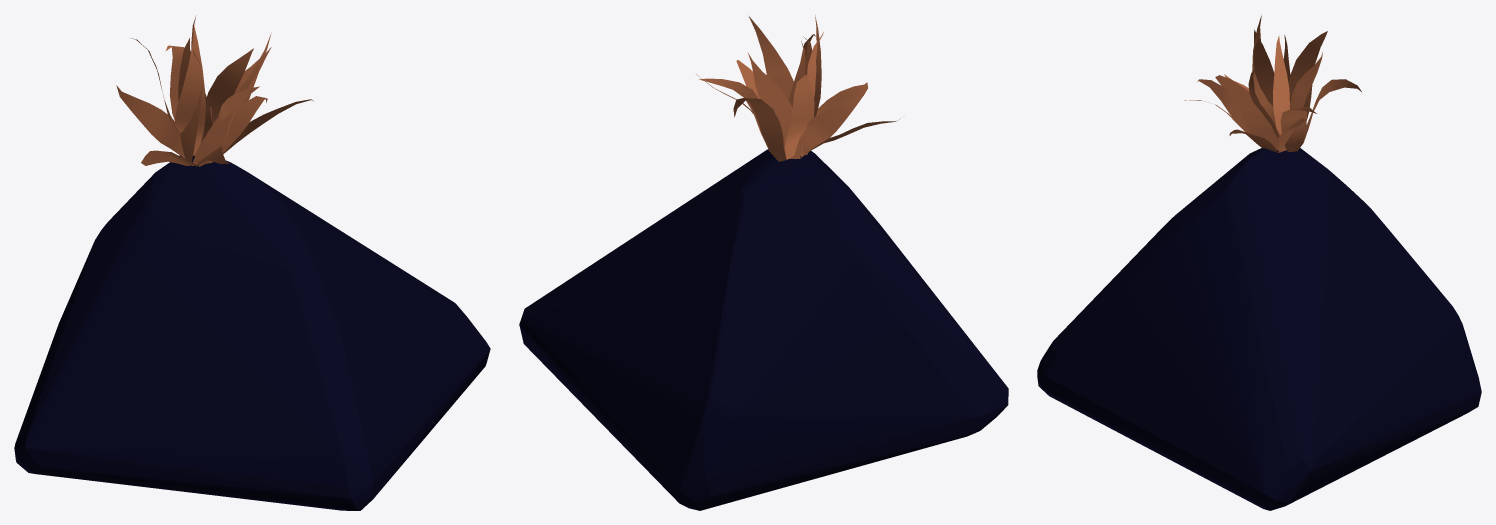
3 views of the same model, side by side, from view 1: azimuth 30°, elevation 25°; view 2: azimuth 150°, elevation 25°; view 3: azimuth 270°, elevation 25° (orthographic). The views are drawn at different scales.
Visible parts, largest first — view 1: brush_MatteHull_g0_b0, brush_Petal_g1_b0; view 2: brush_MatteHull_g0_b0, brush_Petal_g1_b0; view 3: brush_MatteHull_g0_b0, brush_Petal_g1_b0.
Boxes of the visible parts, <box> form: brush_MatteHull_g0_b0: <box>14,155,490,510</box>; brush_Petal_g1_b0: <box>116,15,313,166</box>; brush_MatteHull_g0_b0: <box>519,149,1008,510</box>; brush_Petal_g1_b0: <box>696,15,900,161</box>; brush_MatteHull_g0_b0: <box>1037,142,1481,510</box>; brush_Petal_g1_b0: <box>1184,15,1361,152</box>.
Size of the model in its own units: 3.63 by 3.13 by 3.22.
